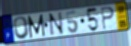5: (84, 7, 99, 33), (65, 10, 80, 35)
M: (27, 14, 46, 39)
N: (47, 11, 65, 38)
O: (13, 16, 31, 40)
P: (101, 6, 116, 31)
